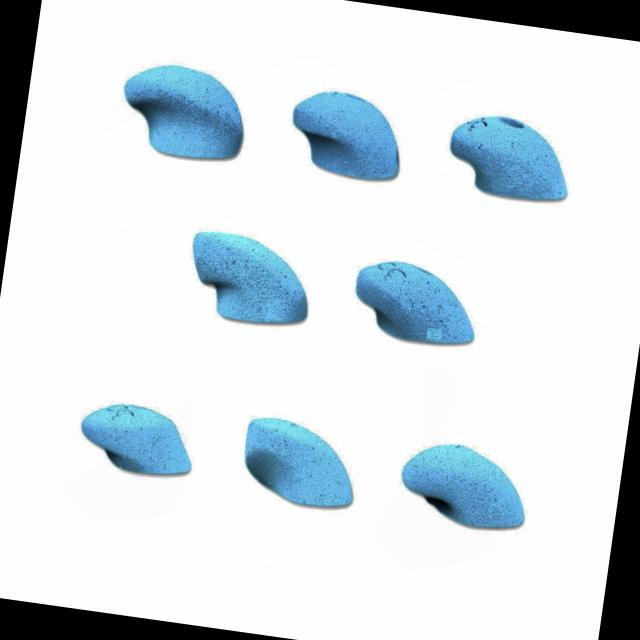Hold: (114, 49, 258, 170), (180, 230, 321, 333), (446, 109, 581, 210), (399, 437, 539, 534), (349, 253, 488, 349), (284, 80, 414, 182), (240, 412, 368, 512), (70, 394, 205, 479)
